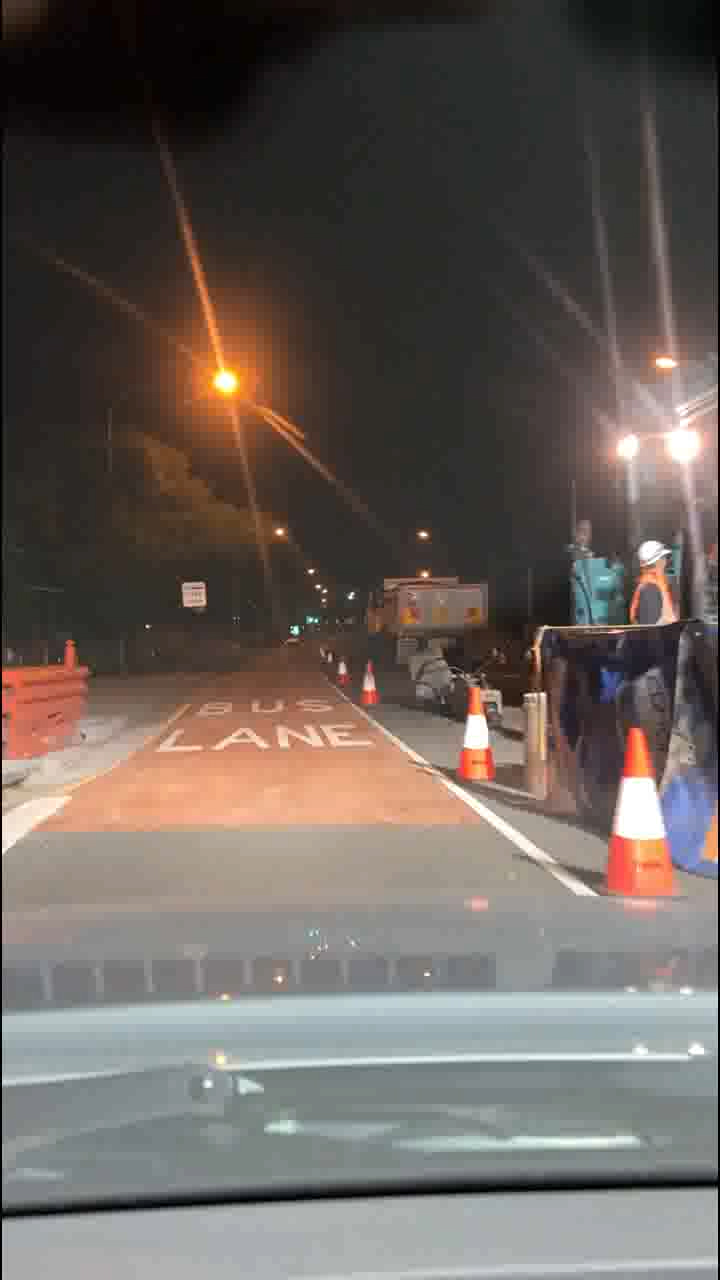person: (620, 538, 681, 627)
road cone: (595, 727, 685, 904), (4, 671, 93, 755), (452, 675, 504, 792), (333, 654, 350, 682)
truck: (355, 557, 503, 667)
